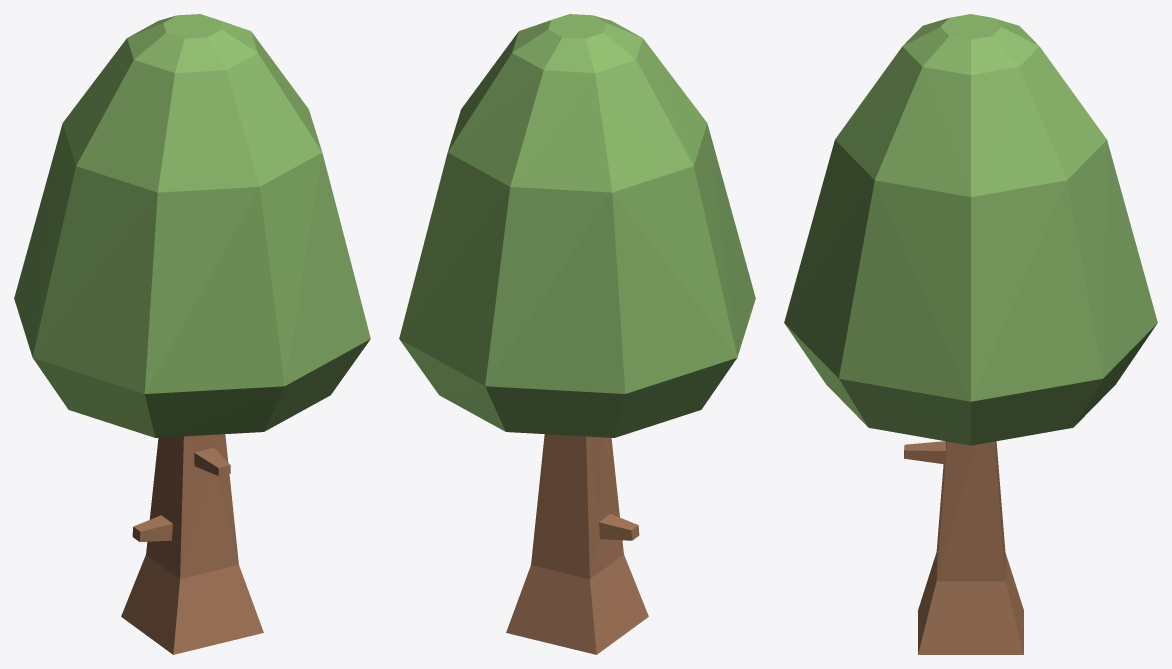
The model's file is forest-deciduous-0.glb.
3 renders of one model, left to right at view 1: azimuth 30°, elevation 25°; view 2: azimuth 150°, elevation 25°; view 3: azimuth 270°, elevation 25°, orthographic.
Visible parts, largest first — view 1: forest-deciduous-0; view 2: forest-deciduous-0; view 3: forest-deciduous-0.
Boxes of the visible parts, left/top/right/bottom form: forest-deciduous-0: left=14, top=14, right=370, bottom=654; forest-deciduous-0: left=399, top=14, right=755, bottom=654; forest-deciduous-0: left=784, top=14, right=1157, bottom=654.
Bounding box in the file's own units: 0.9371 × 1.68 × 0.9371.
